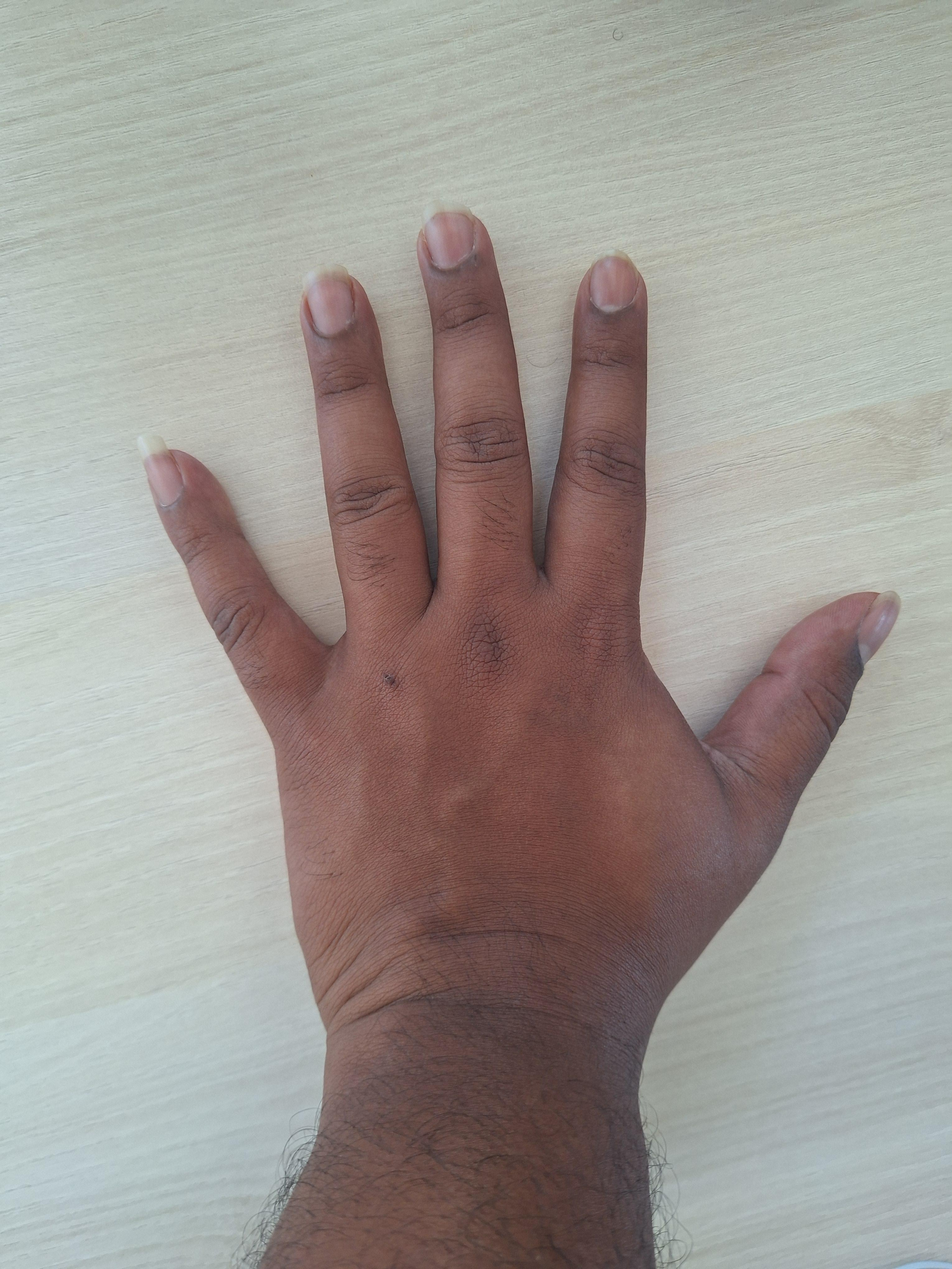Fingernail: (302, 263, 354, 337), (421, 198, 475, 268), (136, 434, 183, 506), (858, 591, 901, 665), (589, 250, 639, 312)
